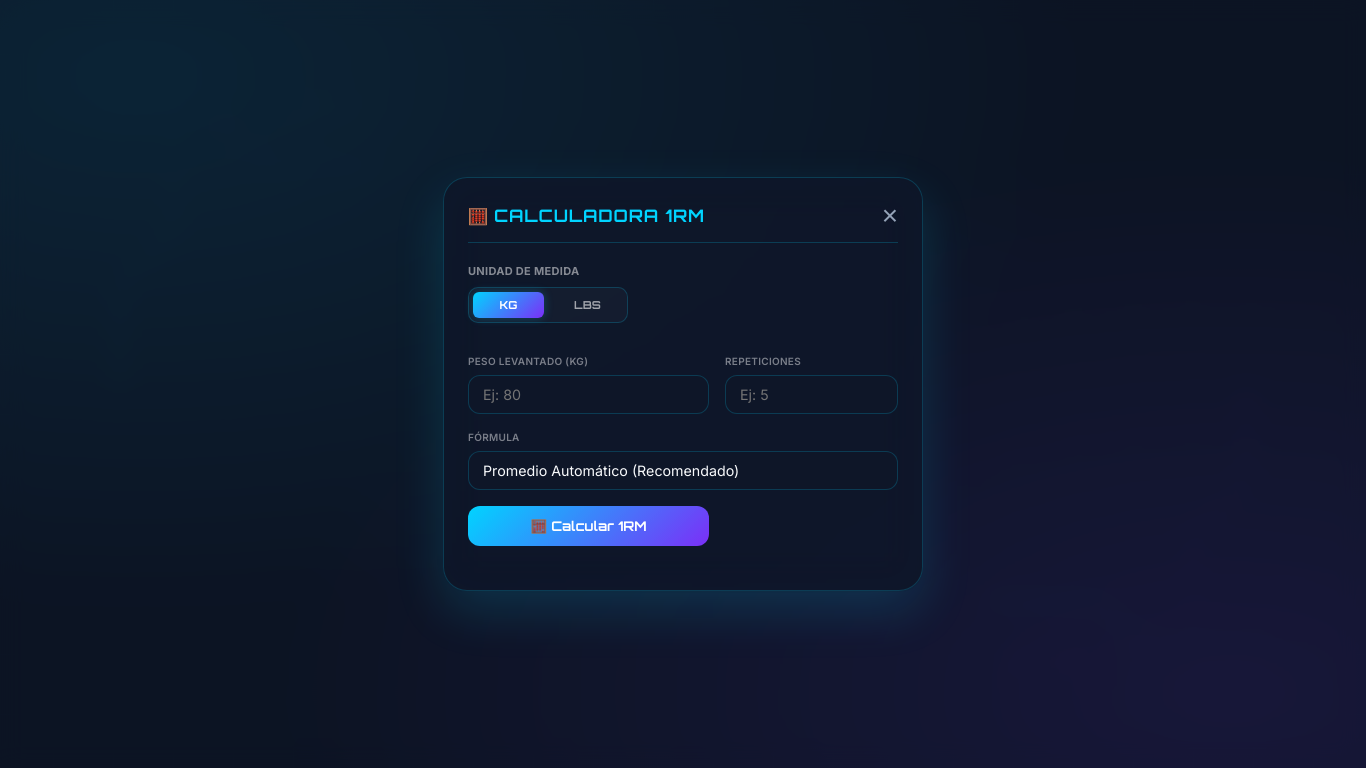
RMCalculatorModal — cálculo del 1RM › fórmula Brzycki (peso=80, reps=5) → muestra resultado que empieza por "90."
Type "80" into the number field with placeholder "Ej: 80". click: [588, 395]
box: x1=468 y1=375 x2=709 y2=414
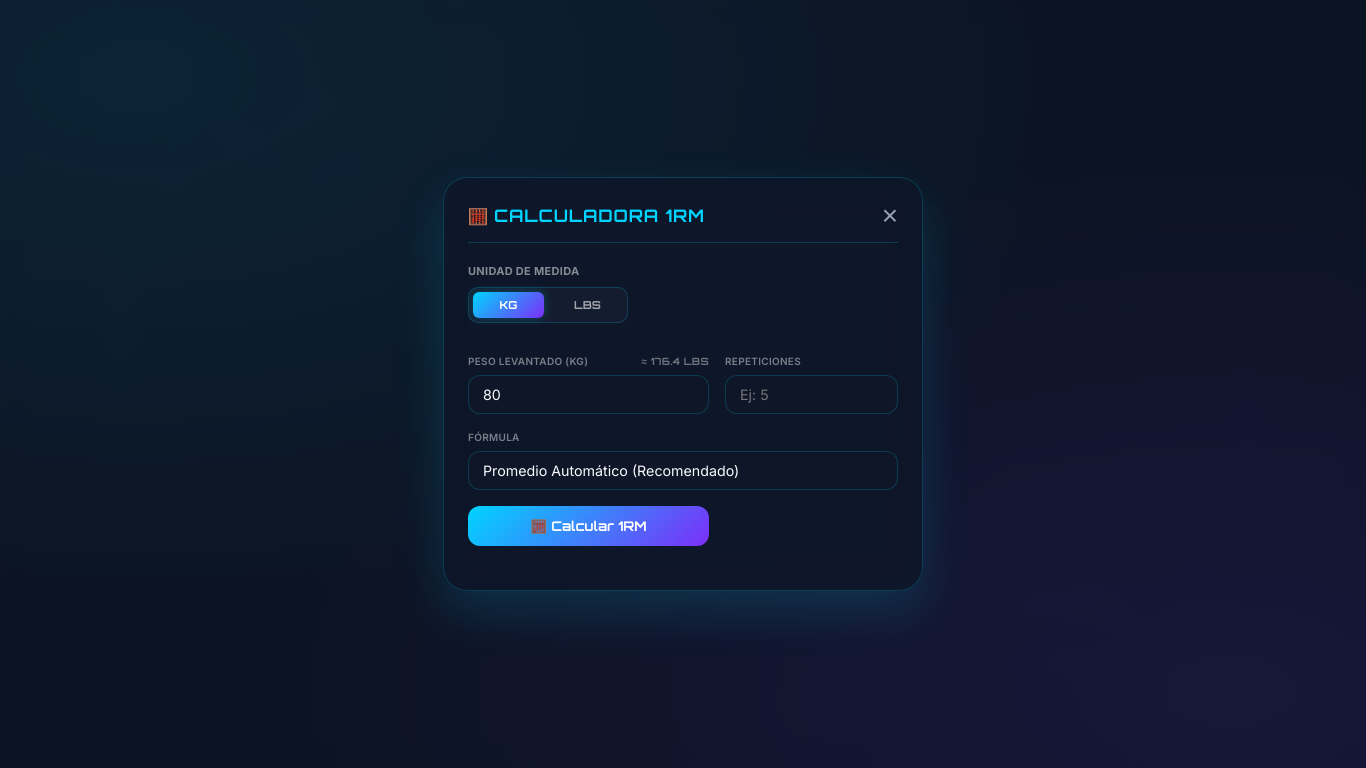
Type "5" into the number field with placeholder "Ej: 5". click: [812, 395]
box: x1=725 y1=375 x2=898 y2=414
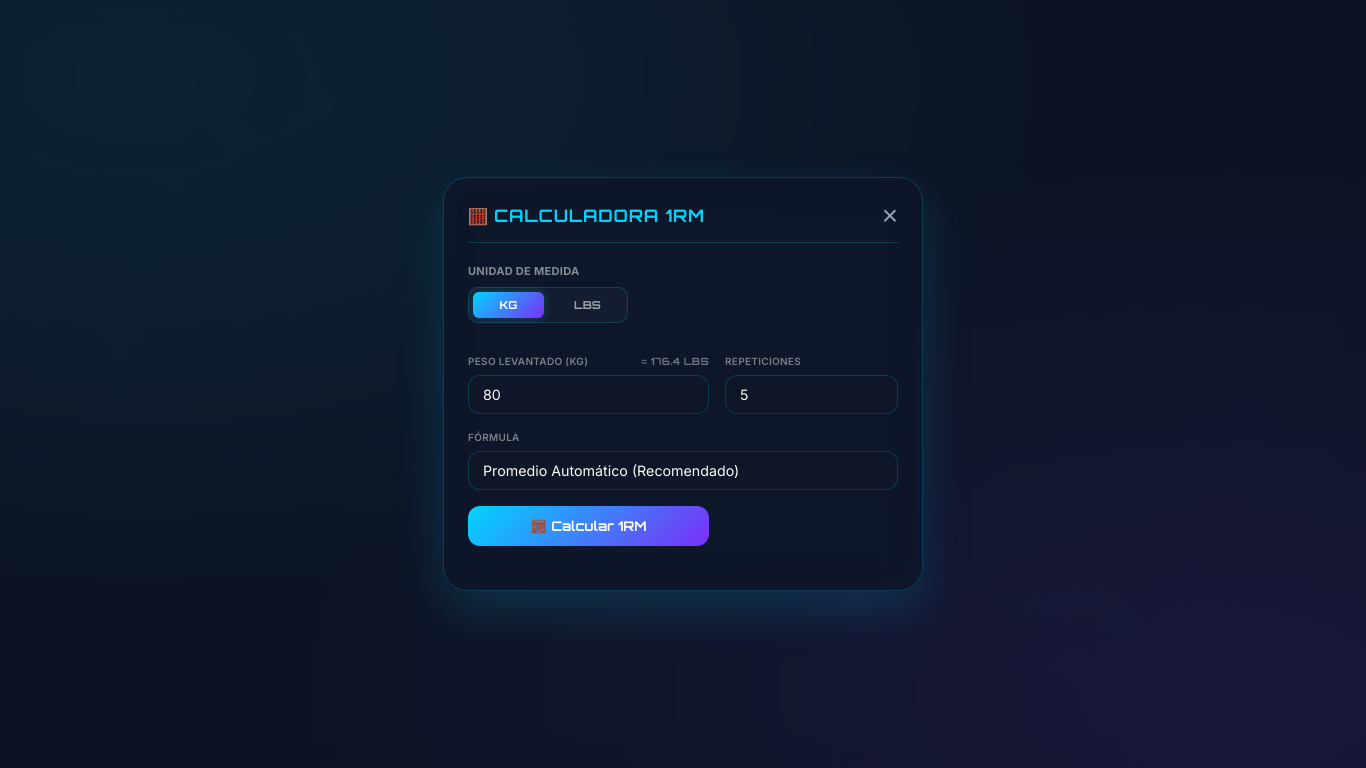
Select "Brzycki" in the dropdown with id "select1RMFormula". click: [683, 471]
box: x1=468 y1=451 x2=898 y2=490
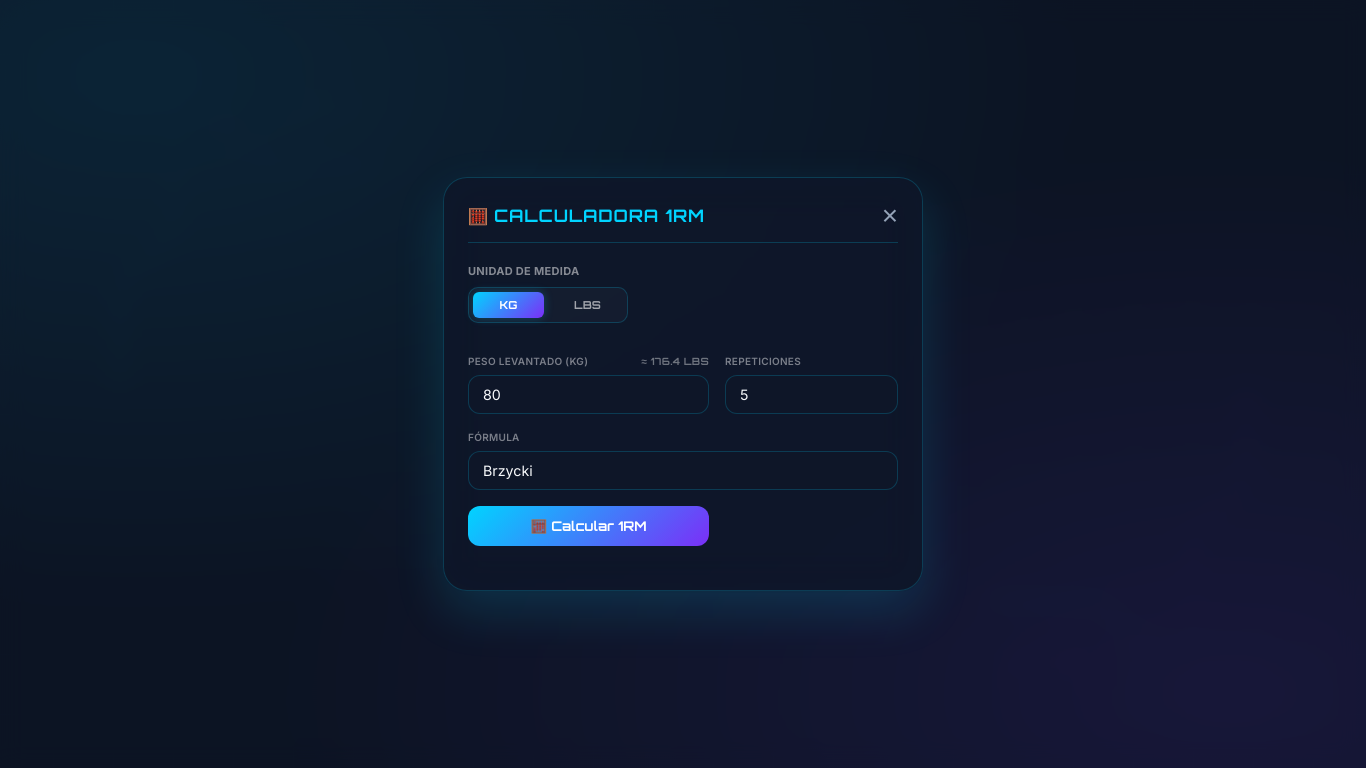
Click the button "🧮 Calcular 1RM". click: [588, 526]
box: x1=468 y1=506 x2=709 y2=546
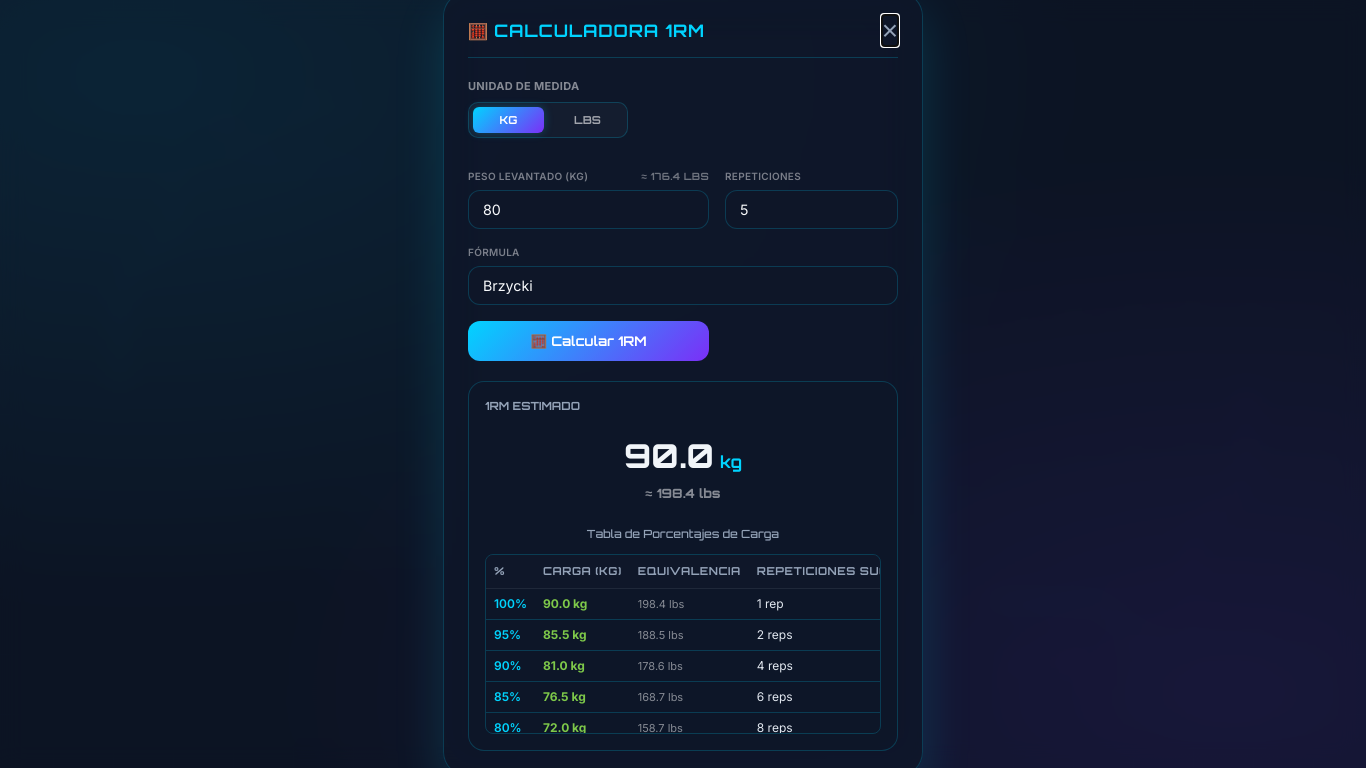
Expected: the text "90.0" is shown, x1=624 y1=431 x2=714 y2=480
